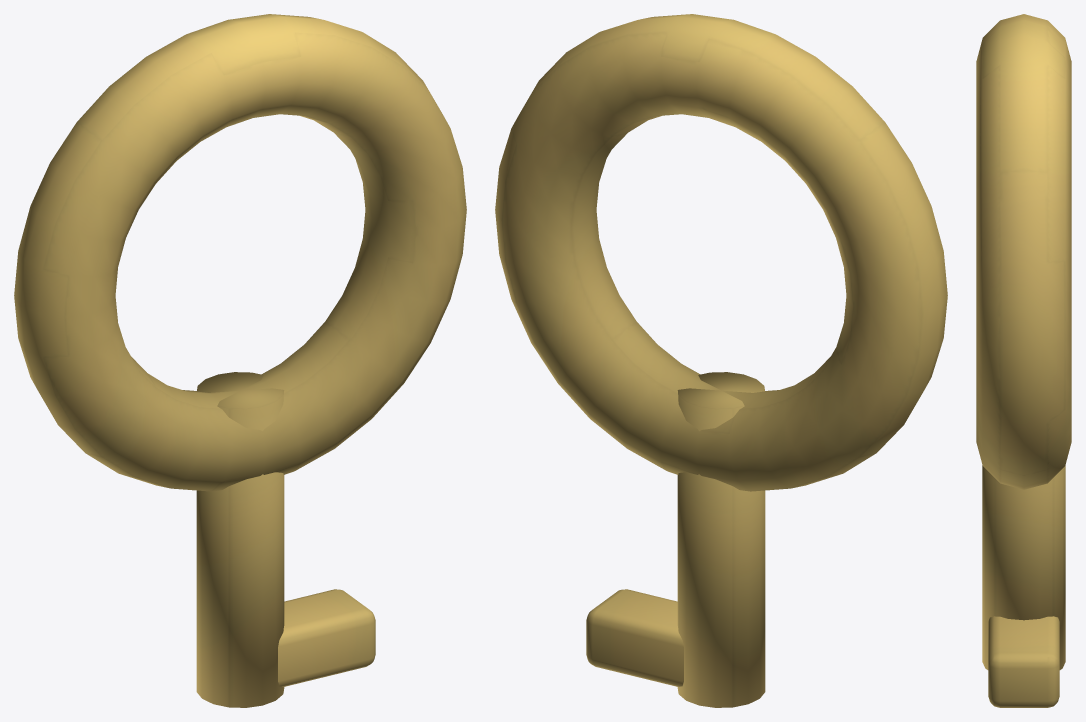
File: item_key.glb
3 renders of one model, left to right at view 1: azimuth 30°, elevation 25°; view 2: azimuth 150°, elevation 25°; view 3: azimuth 270°, elevation 25°, orthographic. The views are drawn at different scales.
Visible parts, largest first — view 1: key; view 2: key; view 3: key.
Part boxes in pixels (left/top/right/bottom): key: left=14, top=14, right=466, bottom=707; key: left=495, top=14, right=947, bottom=707; key: left=976, top=14, right=1071, bottom=707.
Bounding box in the file's own units: 0.4 × 0.58 × 0.08.
Materials: 1 (1 with a texture image).
